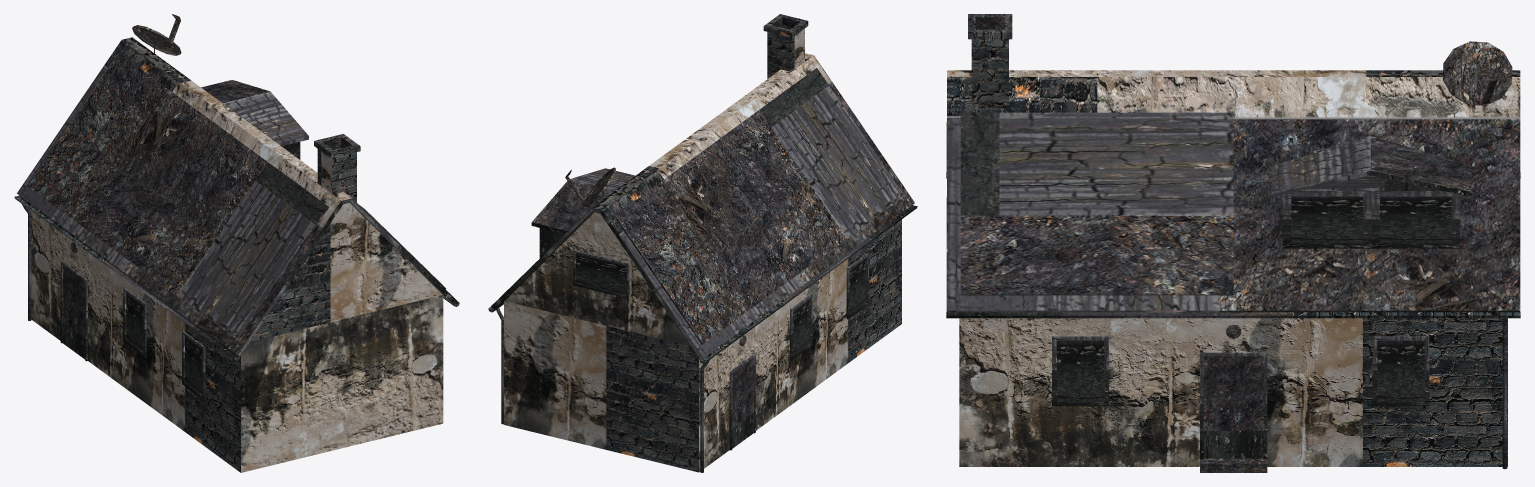
Rendered from small_haus.fbx.
3 renders of one model, left to right at view 1: azimuth 30°, elevation 25°; view 2: azimuth 150°, elevation 25°; view 3: azimuth 270°, elevation 25°, orthographic. The views are drawn at different scales.
Parts seen in each view (by area): view 1: small_haus1_LOD0; view 2: small_haus1_LOD0; view 3: small_haus1_LOD0.
Boxes of the visible parts, left/top/right/bottom form: small_haus1_LOD0: left=14, top=14, right=459, bottom=472; small_haus1_LOD0: left=488, top=14, right=917, bottom=472; small_haus1_LOD0: left=946, top=14, right=1520, bottom=472.
Size of what is drawn, in the model's own units: 12.16 by 15.18 by 20.6.
